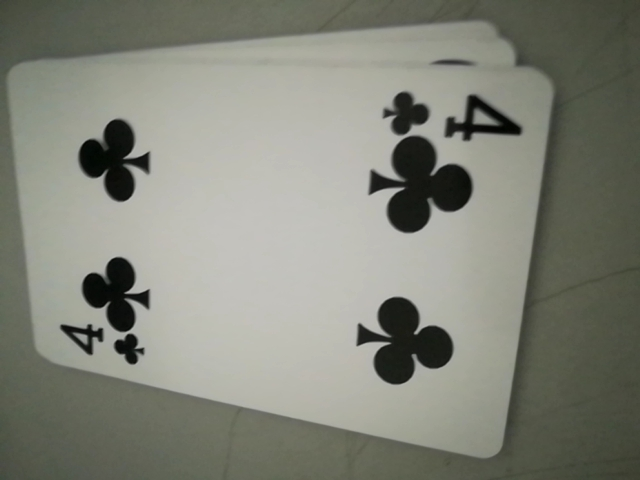mh 4: (380, 78, 521, 143), (48, 321, 151, 370)
